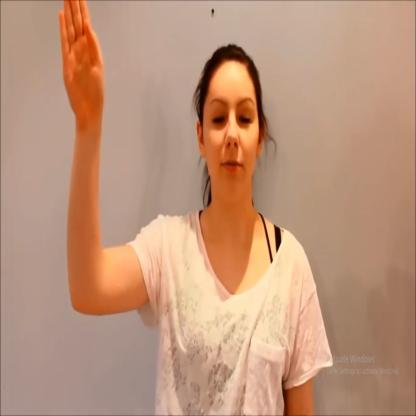Hello: (46, 0, 278, 321)
